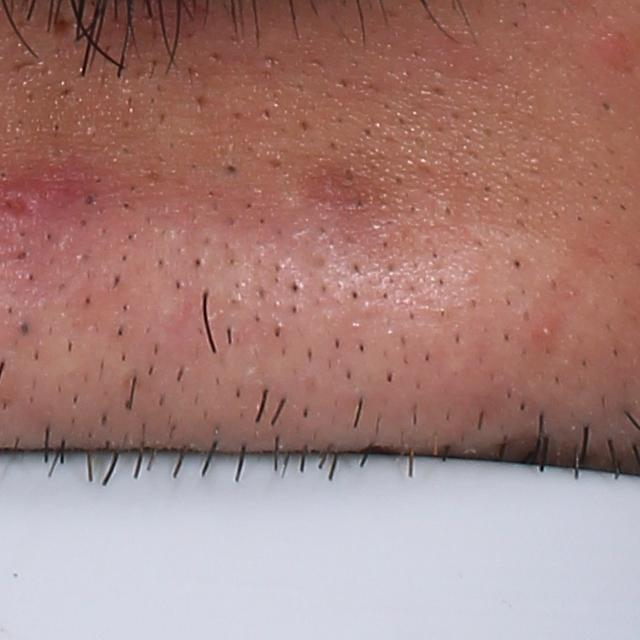comedo: (440, 204, 455, 220)
papule: (587, 29, 634, 72)
